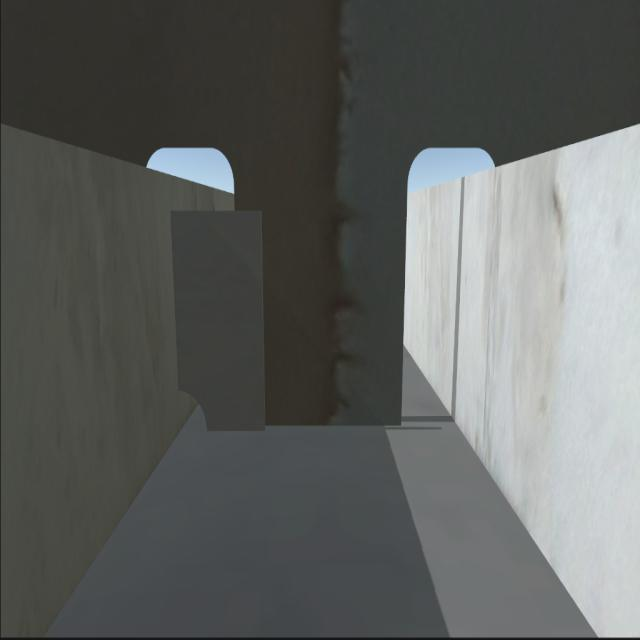fillet_hole: (178, 390, 212, 440)
fillet_yong_jeop_jang: (207, 419, 404, 433)
longi_yong_jeop_jang: (164, 214, 188, 398)
plate_CP01: (174, 212, 265, 428)
